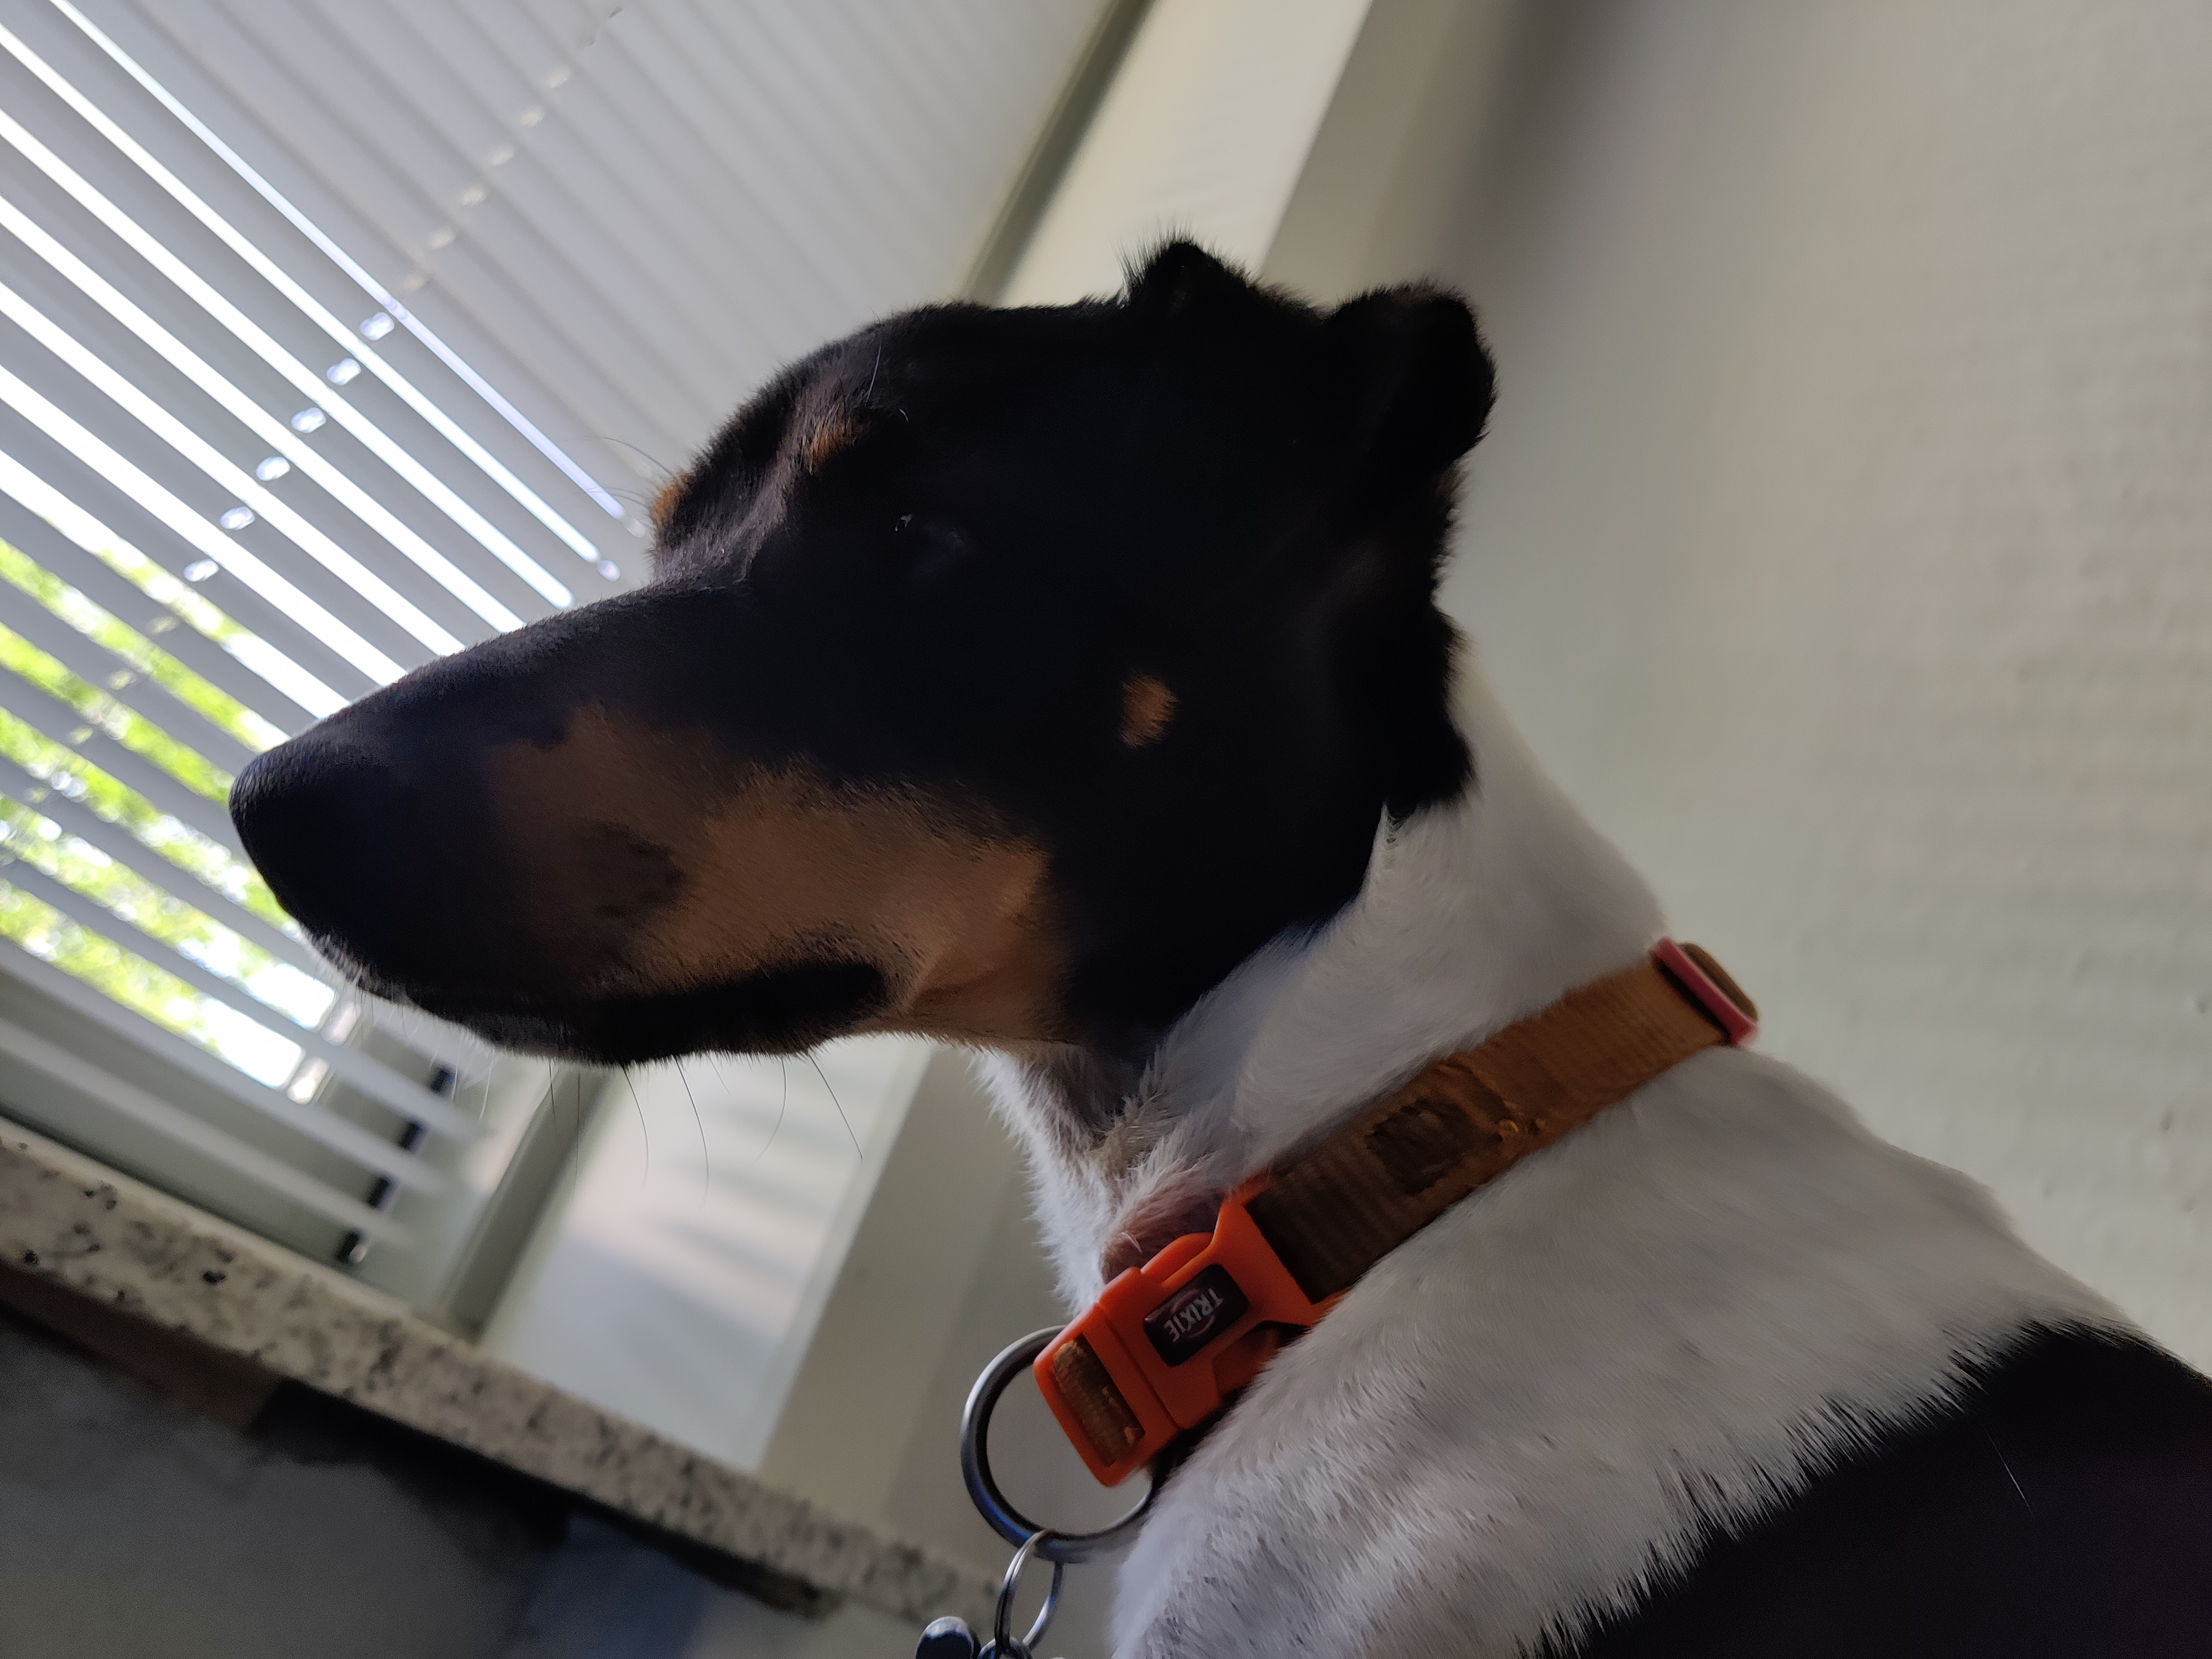Dog: (216, 220, 2212, 1659)
